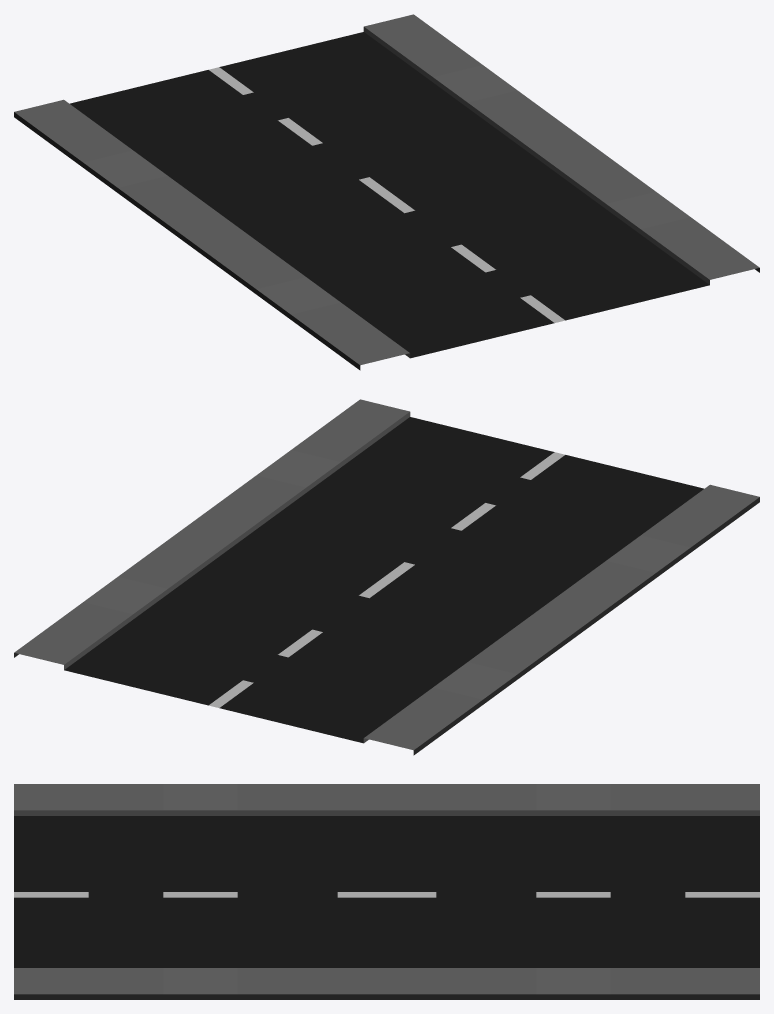
The model's file is street.glb.
3 views of the same model, one above another, from view 1: azimuth 30°, elevation 25°; view 2: azimuth 150°, elevation 25°; view 3: azimuth 270°, elevation 25° (orthographic). The views are drawn at different scales.
Visible parts, largest first — view 1: Plane.004_18; view 2: Plane.004_18; view 3: Plane.004_18.
Boxes of the visible parts, box(x1,y1,x2,y2) form: Plane.004_18: box(14, 14, 759, 370); Plane.004_18: box(14, 399, 759, 755); Plane.004_18: box(14, 784, 759, 999).
Bounding box in the file's own units: 27.88 × 0.3537 × 41.83.
Materials: 1 (1 with a texture image).
